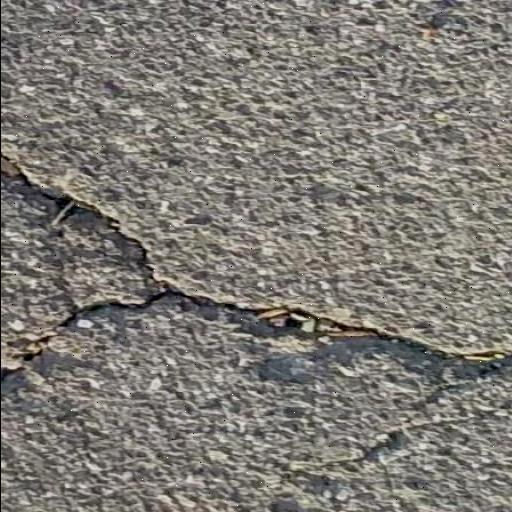spalling: (0, 146, 512, 399)
